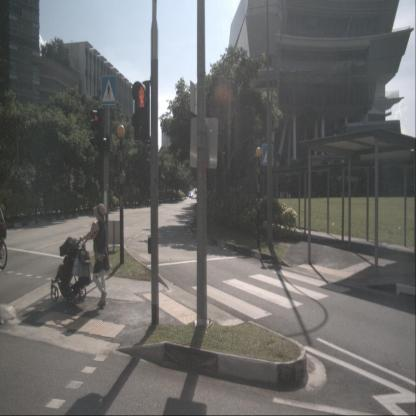vehicle-bicycle: (0, 206, 8, 270)
